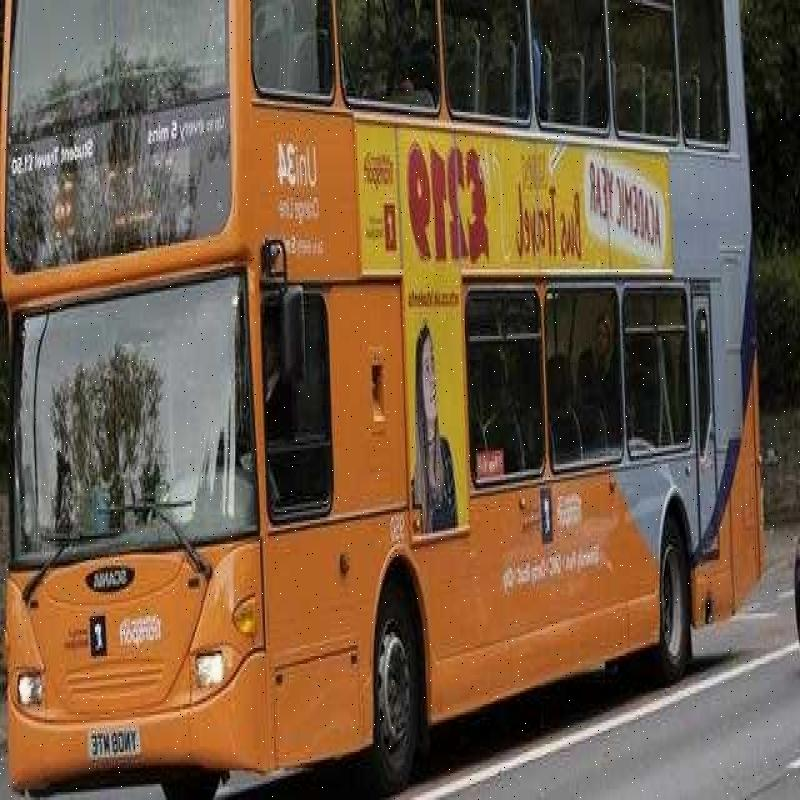bus: (0, 4, 763, 763)
